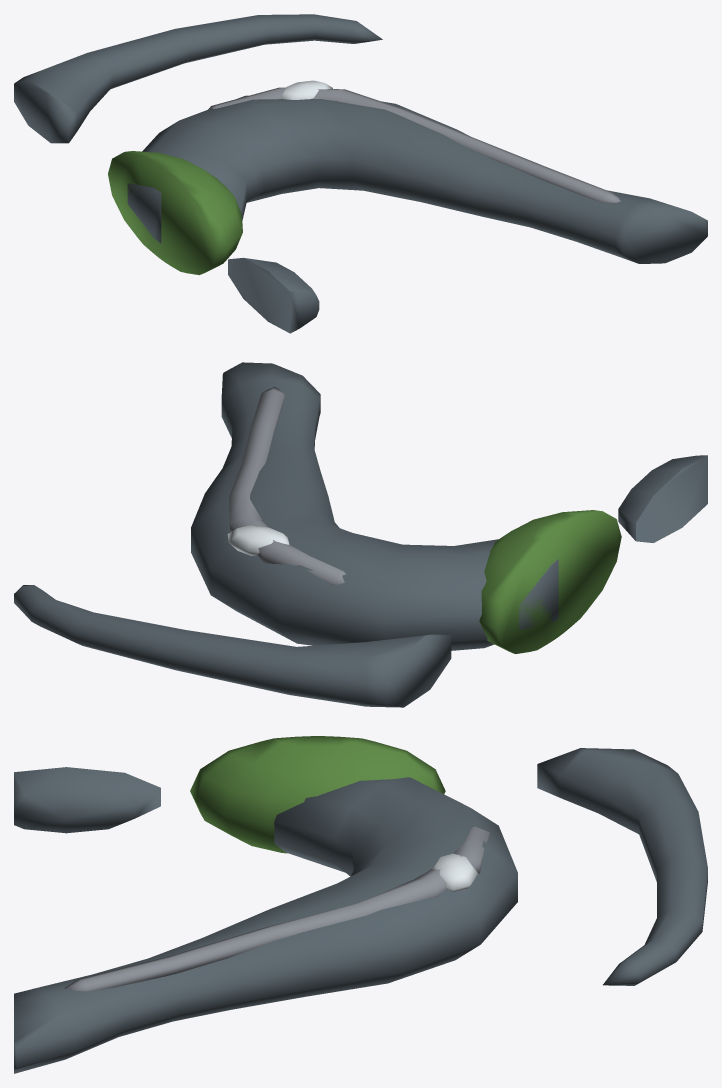
File: newshh-163.glb
3 renders of one model, top to bottom at view 1: azimuth 30°, elevation 25°; view 2: azimuth 150°, elevation 25°; view 3: azimuth 270°, elevation 25°, orthographic. The views are drawn at different scales.
Parts seen in each view (by area): view 1: newshh-163; view 2: newshh-163; view 3: newshh-163.
Boxes of the visible parts, x1=… form: newshh-163: x1=14, y1=14, x2=707, y2=333; newshh-163: x1=14, y1=362, x2=707, y2=707; newshh-163: x1=14, y1=736, x2=707, y2=1073.
Size of the model in its own units: 1.72 by 0.3697 by 2.09.
